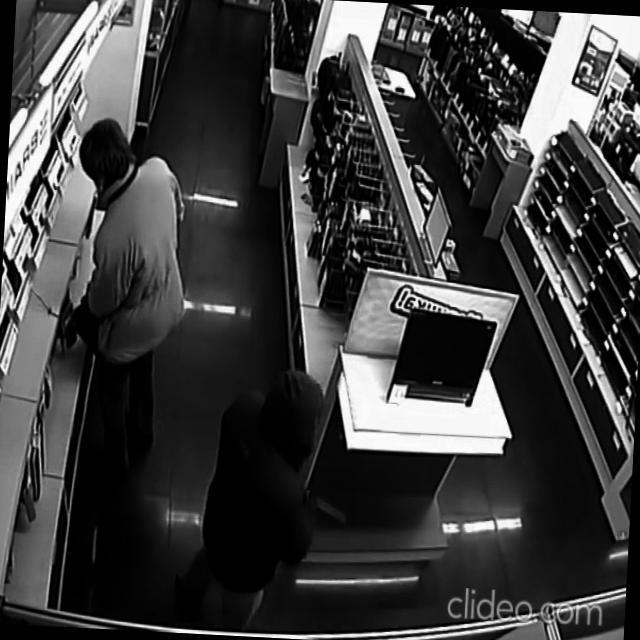gun: (301, 484, 350, 530)
person: (54, 112, 196, 486)
person with a gun: (178, 361, 356, 639)
